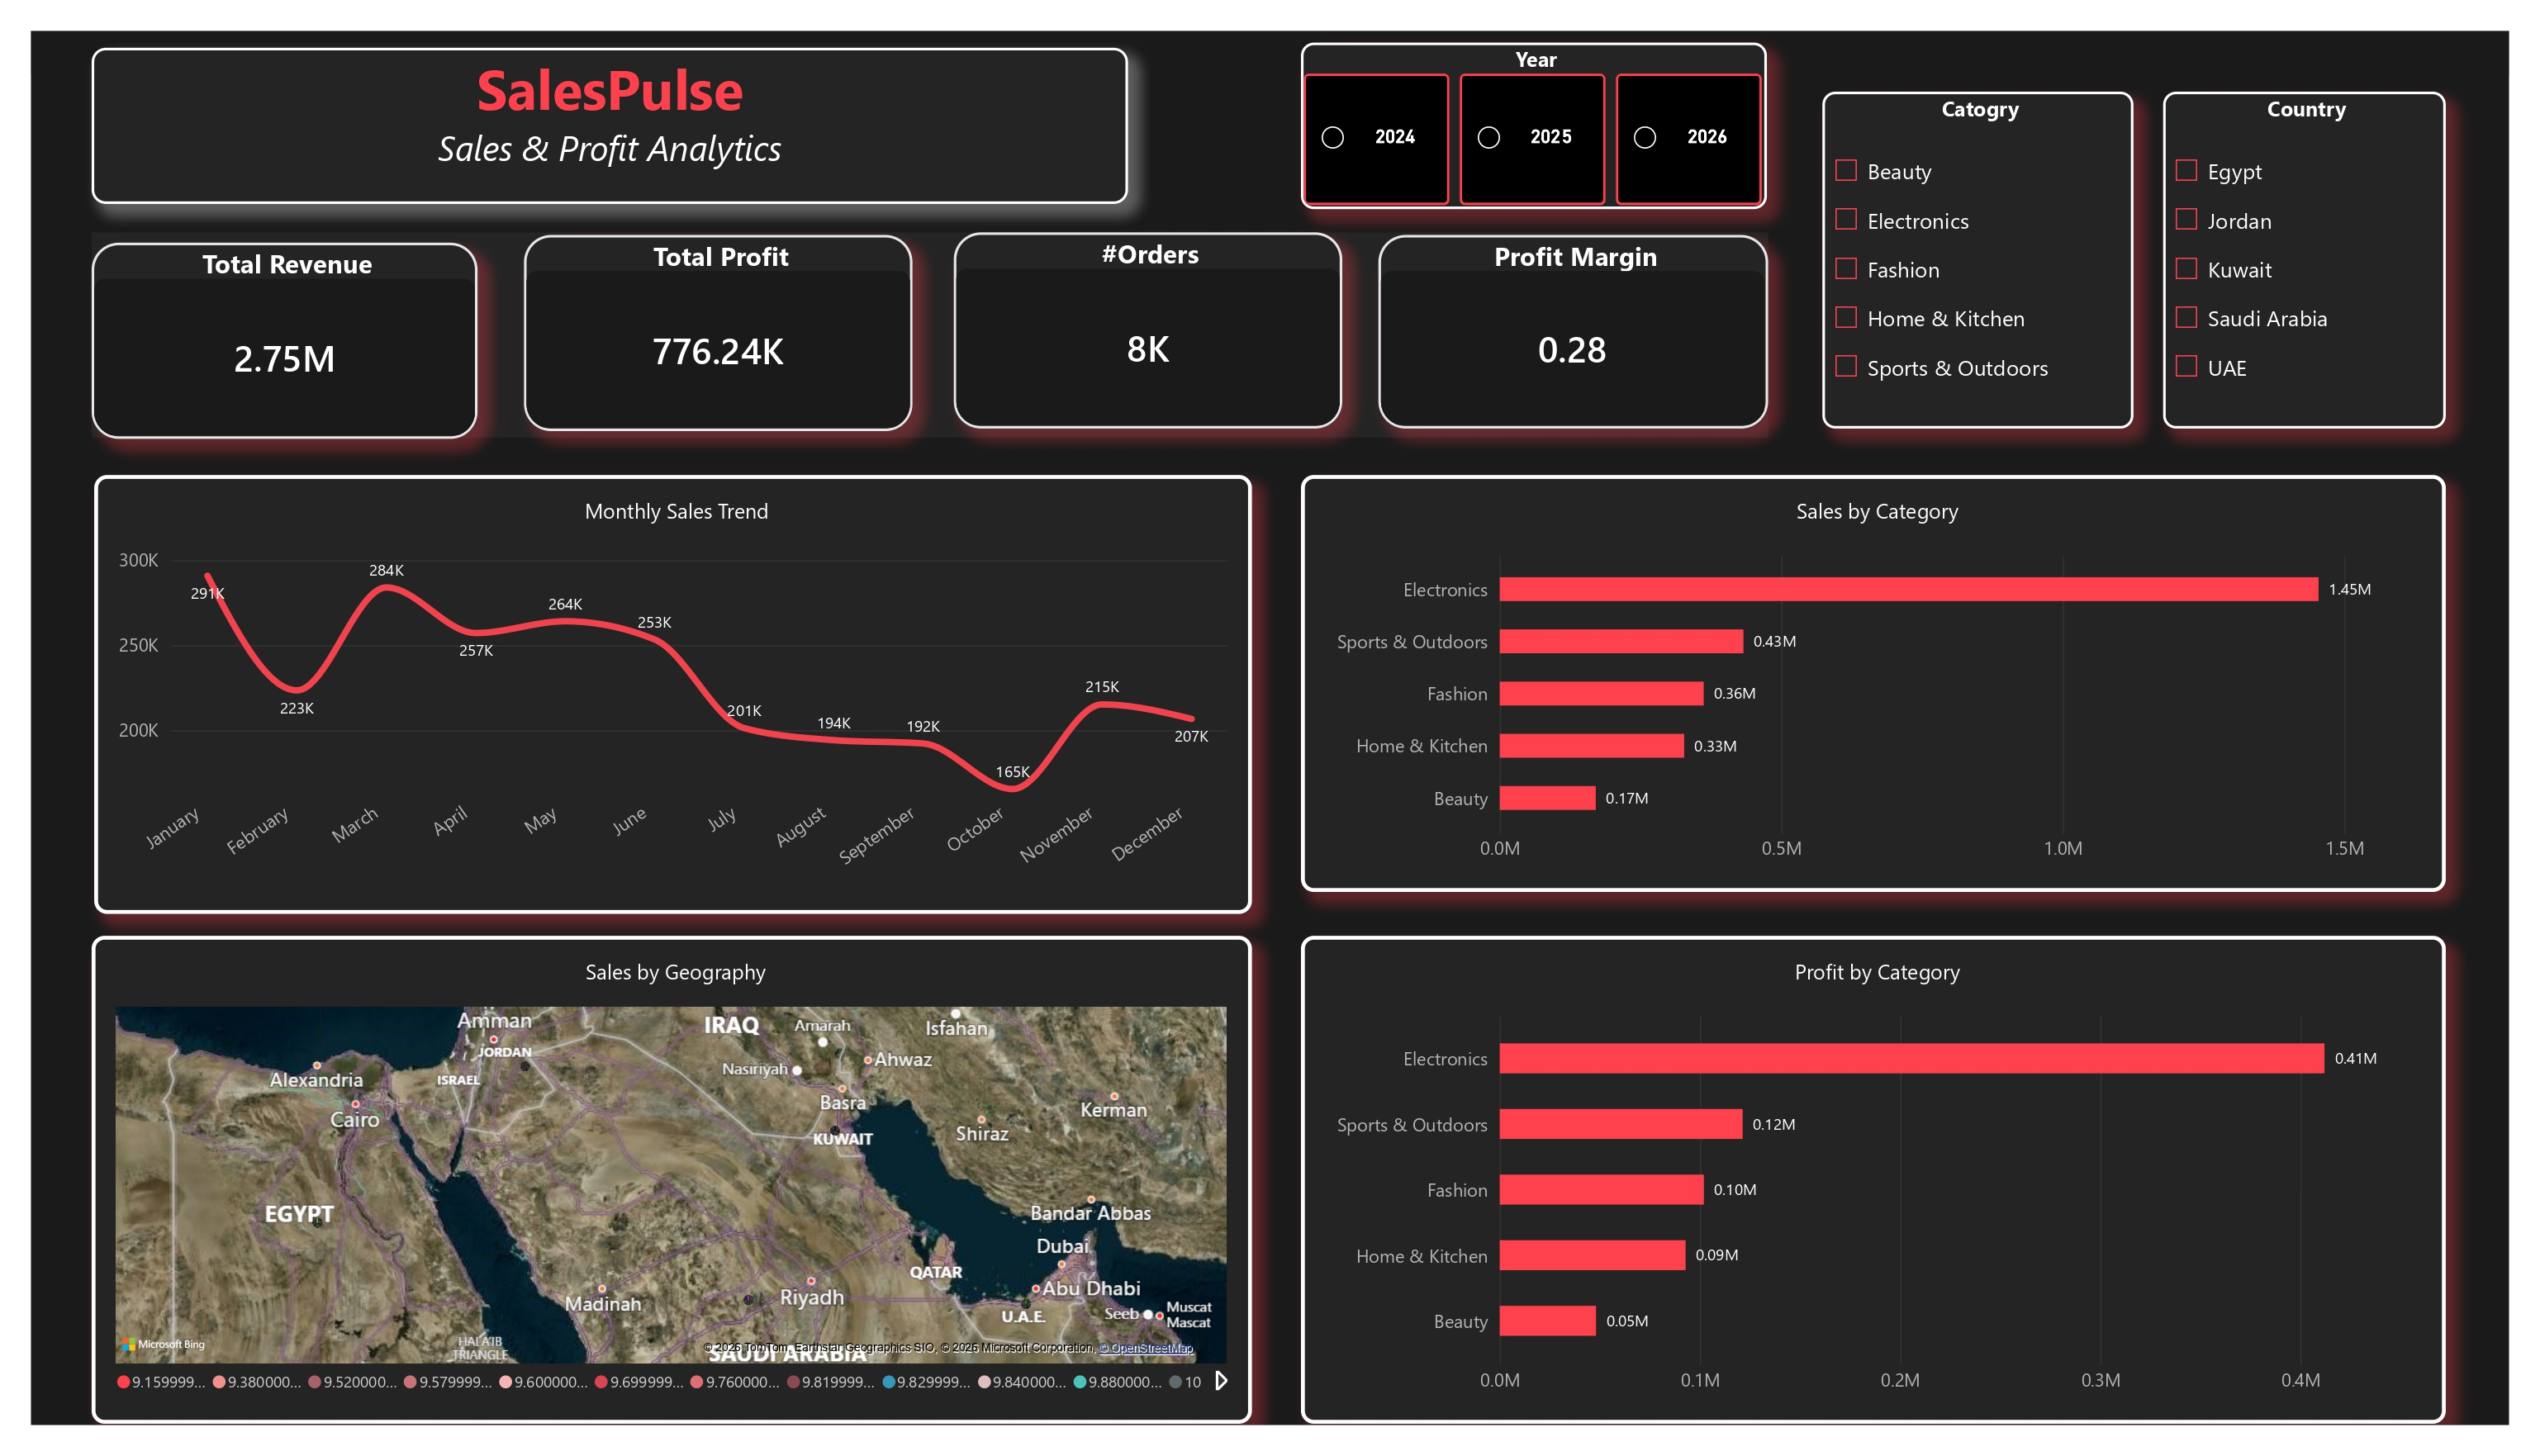

What the dashboard file says about the page in this screenshot:
{"tool":"powerbi","page":{"name":"Executive Overview","canvas":[1920,1080],"ordinal":0},"visuals":[{"type":"textbox","box":[47.5,13.3,802.3,121.2],"z":0},{"type":"cardVisual","title":"Total Revenue   ","fields":{"Data":["measures_table.Total Revenue"]},"box":[47.5,163.3,299.3,152.4],"z":1000,"group":"g1"},{"type":"lineChart","title":"Monthly Sales Trend","fields":{"Category":["DimDate.Date.Variation.Date Hierarchy.Month"],"Y":["measures_table.Total Revenue"]},"box":[49.4,343.7,896.4,339.9],"z":1000},{"type":"cardVisual","title":"Total Profit","fields":{"Data":["measures_table.Total Profit"]},"box":[382.9,157.5,301.1,152.4],"z":2000,"group":"g1"},{"type":"clusteredBarChart","title":"Sales by Category","fields":{"Category":["DimProduct.Category"],"Y":["measures_table.Total Revenue"]},"box":[983.7,343.7,886.9,322.8],"z":2000},{"type":"cardVisual","title":"#Orders","fields":{"Data":["measures_table.Total Orders"]},"box":[715.9,155.7,301.1,152.4],"z":3000,"group":"g1"},{"type":"clusteredBarChart","title":"Profit by Category","fields":{"Category":["DimProduct.Category"],"Y":["measures_table.Total Profit"]},"box":[983.7,700.8,886.9,377.9],"z":3000},{"type":"cardVisual","title":"Profit Margin","fields":{"Data":["measures_table.Profit Margin"]},"box":[1044.5,157.6,302,150],"z":4000,"group":"g1"},{"type":"map","title":"Sales by Geography","fields":{"Category":["DimGeography.Country"],"Series":["FactSales.Sales"]},"box":[47.5,700.8,898.3,377.9],"z":4000},{"type":"advancedSlicerVisual","fields":{"Values":["DimDate.Year"]},"box":[983.7,9.5,361.7,128.5],"z":5000},{"type":"slicer","title":"Country","fields":{"Values":["DimGeography.Country"]},"box":[1652.2,47.5,218.4,260.2],"z":6000},{"type":"slicer","title":"Catogry","fields":{"Values":["DimProduct.Category"]},"box":[1388.2,47.5,241.2,260.2],"z":7000},{"type":"group","id":"g1","title":"Group 1","box":[47.5,155.7,1299,159.5],"z":13000}]}

Visuals, with their boxes on the page's 1920x1080 design canvas (x1, y1, x2, y2). These are canvas units, not pixel positions in the 2540x1456 screenshot, which may show the page scaled, cropped or inside an application window:
textbox: 48:13:850:134
"Total Revenue   " cardVisual: 48:163:347:316
"Monthly Sales Trend" lineChart: 49:344:946:684
"Total Profit" cardVisual: 383:158:684:310
"Sales by Category" clusteredBarChart: 984:344:1871:666
"#Orders" cardVisual: 716:156:1017:308
"Profit by Category" clusteredBarChart: 984:701:1871:1079
"Profit Margin" cardVisual: 1044:158:1346:308
"Sales by Geography" map: 48:701:946:1079
advancedSlicerVisual - DimDate.Year: 984:10:1345:138
"Country" slicer: 1652:48:1871:308
"Catogry" slicer: 1388:48:1629:308
"Group 1" group: 48:156:1346:315
